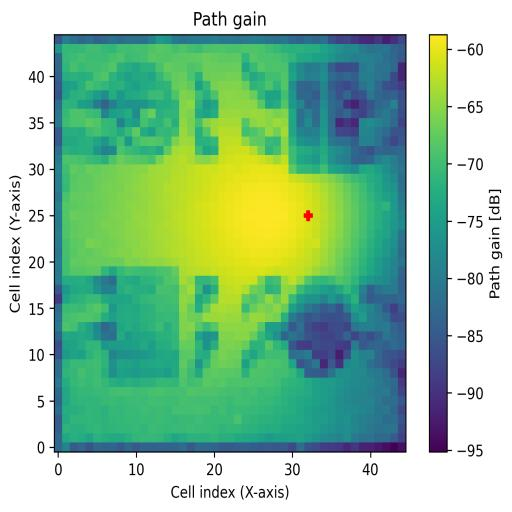Concrete: (289, 63, 359, 174)
Glass: (117, 62, 179, 164)
Metal: (280, 274, 351, 378)
Wood: (101, 266, 180, 387)
